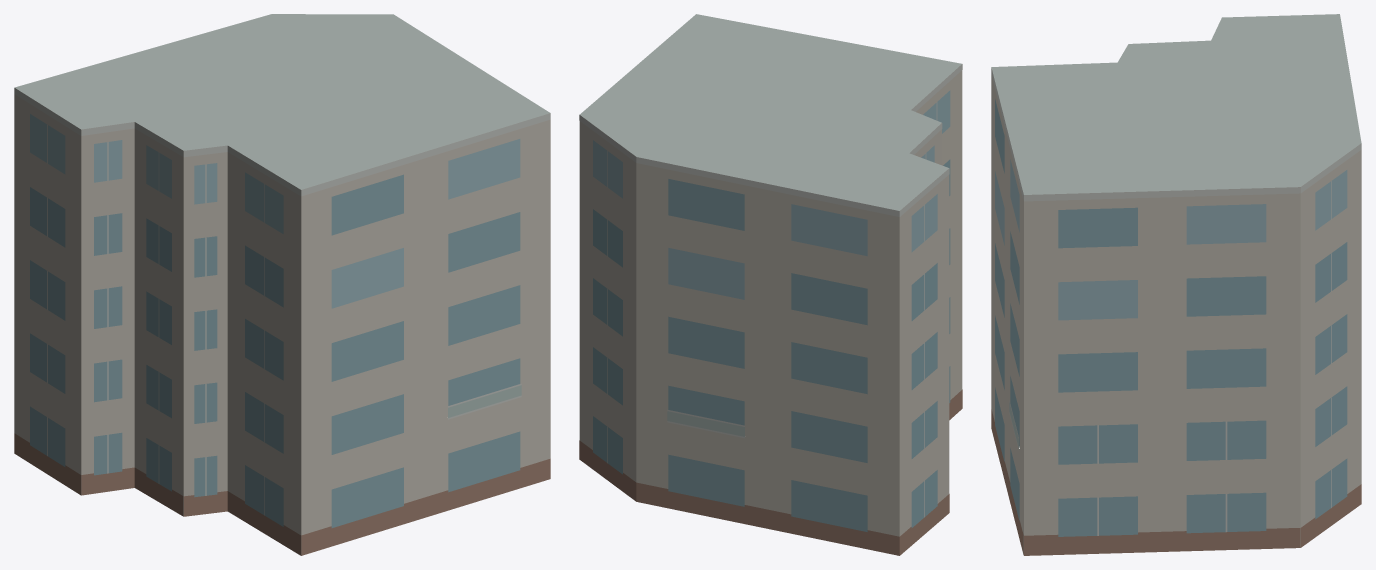
Rendered from survey-upis-32516162.glb.
3 views of the same model, side by side, from view 1: azimuth 30°, elevation 25°; view 2: azimuth 150°, elevation 25°; view 3: azimuth 270°, elevation 25° (orthographic). The views are drawn at different scales.
Visible parts, largest first — view 1: survey-upis-32516162.tmp; view 2: survey-upis-32516162.tmp; view 3: survey-upis-32516162.tmp.
Boxes of the visible parts, x1,y1,x2,y2 form: survey-upis-32516162.tmp: (14,14,550,555); survey-upis-32516162.tmp: (579,14,962,555); survey-upis-32516162.tmp: (991,14,1361,555).
Bounding box in the file's own units: 14.8 × 13.75 × 12.8.
